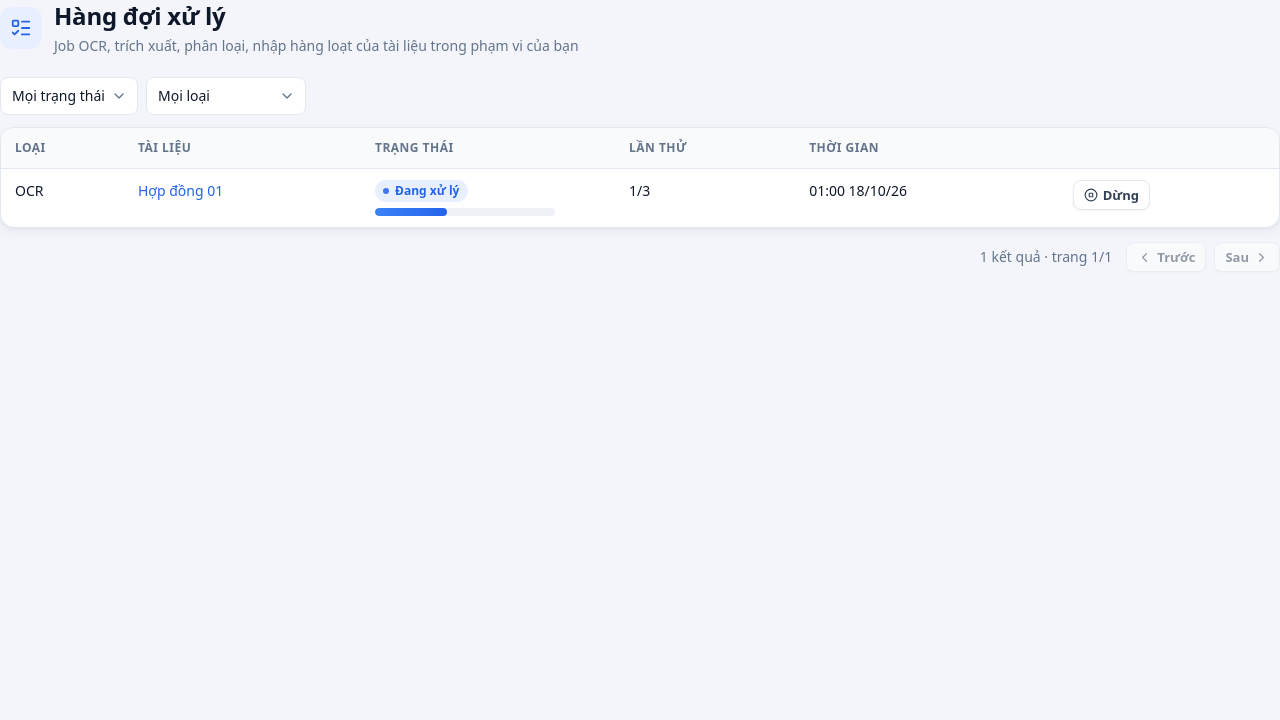
Test: Trang Hàng đợi xử lý (FR-11) › Dừng job đang xử lý: hỏi xác nhận rồi gọi API, hiển thị Đã dừng
The image size is (1280, 720).
Click the button "Dừng" at (1111, 195), box x1=1073 y1=180 x2=1150 y2=210
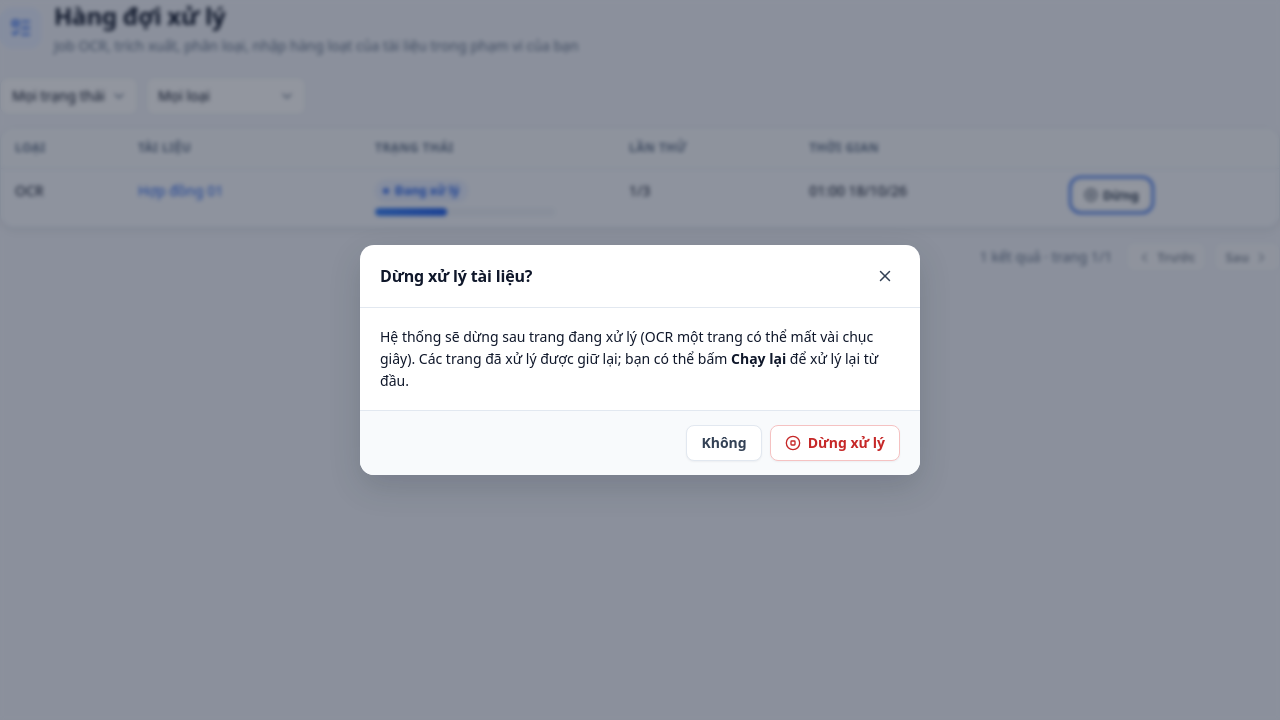
Result: the text "dừng sau trang đang xử lý" is shown at x1=380 y1=328 x2=873 y2=368
Click the button "Dừng xử lý" at (835, 442), box x1=770 y1=424 x2=900 y2=460
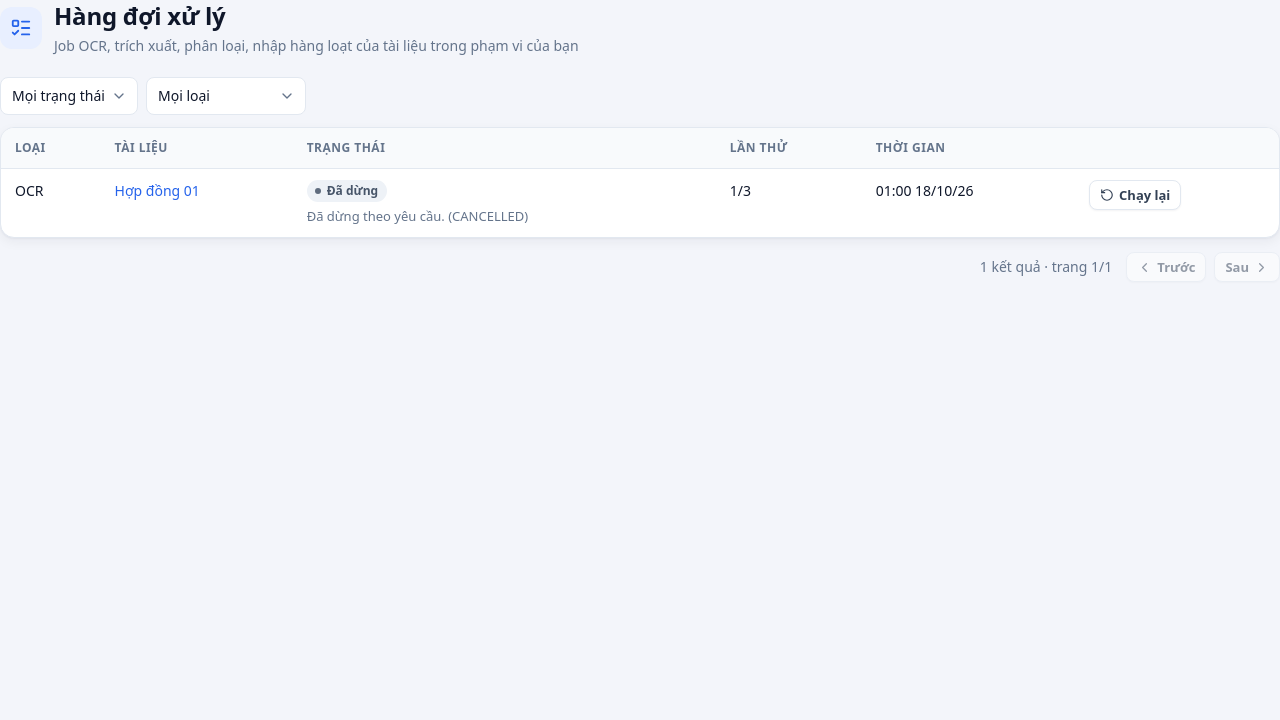
Result: the text "Đã dừng" is shown at x1=307 y1=180 x2=387 y2=202
Result: the dialog is gone
